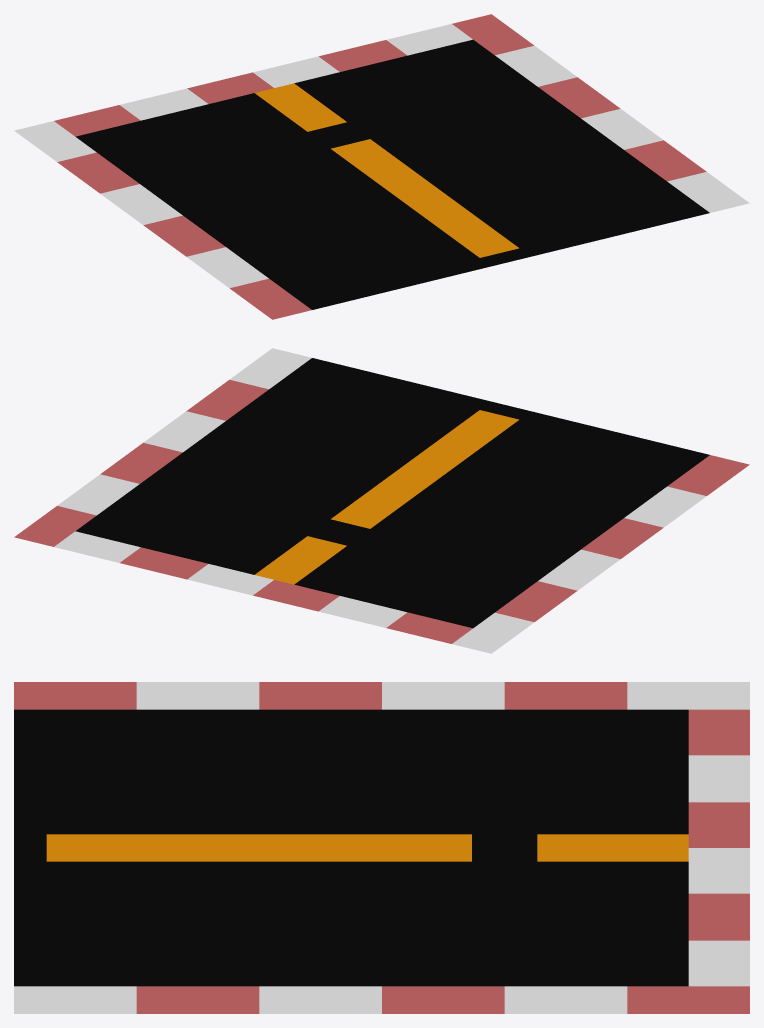
File: Just Track Dead End.fbx
3 renders of one model, top to bottom at view 1: azimuth 30°, elevation 25°; view 2: azimuth 150°, elevation 25°; view 3: azimuth 270°, elevation 25°, orthographic. The views are drawn at different scales.
Parts seen in each view (by area): view 1: Just Track Dead End; view 2: Just Track Dead End; view 3: Just Track Dead End.
Part boxes in pixels (box(x1,y1,x2,y2)): Just Track Dead End: box(14, 14, 749, 319); Just Track Dead End: box(14, 348, 749, 653); Just Track Dead End: box(14, 682, 749, 1013).
Bounding box in the file's own units: 2.4 × 0 × 2.25.
